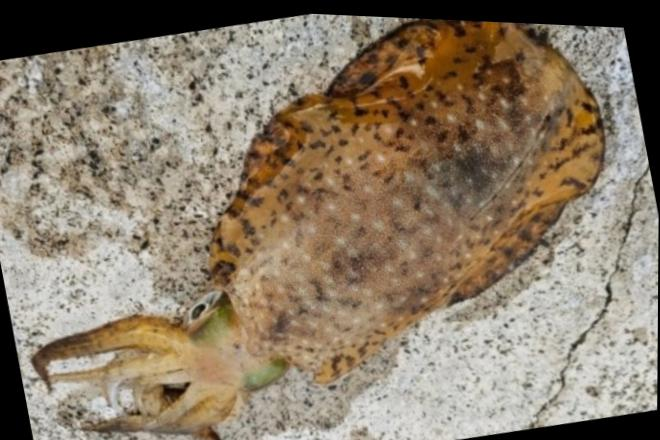Cephalopod: (32, 16, 604, 440)
